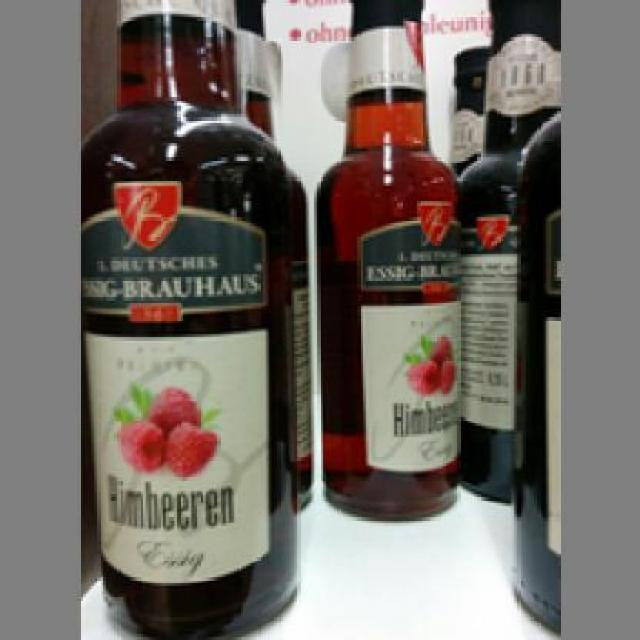Vinegar: (77, 0, 300, 637), (304, 0, 472, 515)
